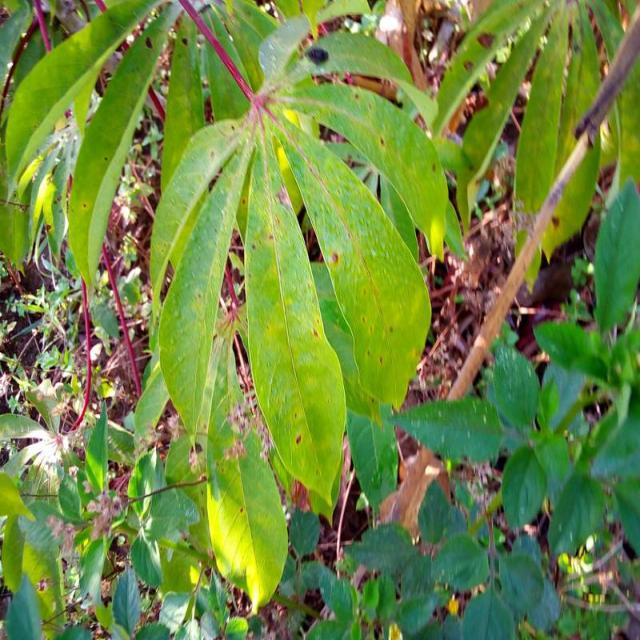cassava leaf: (4, 0, 461, 615)
